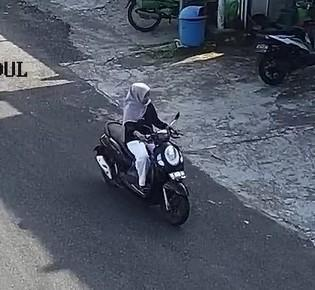Rearview Mirror: (170, 112, 179, 125), (175, 112, 179, 120)
